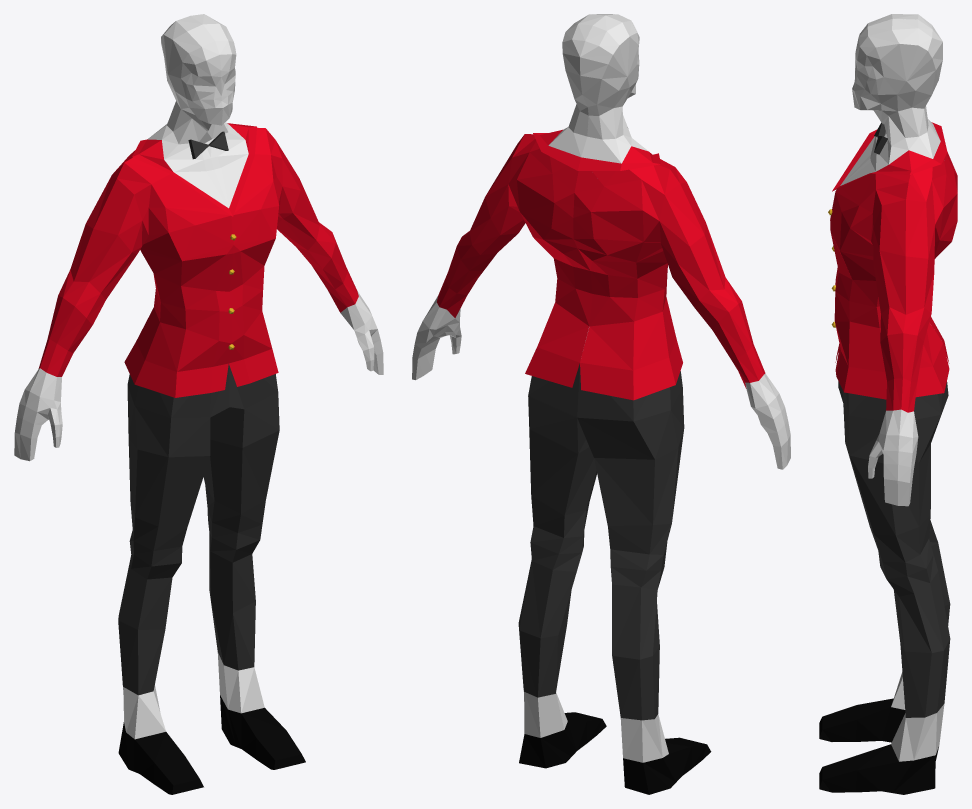
Rendered from barmen.fbx.
The picture shows the model from 3 angles, left to right: view 1: azimuth 30°, elevation 25°; view 2: azimuth 150°, elevation 25°; view 3: azimuth 270°, elevation 25°; orthographic projection. The views are drawn at different scales.
Parts seen in each view (by area): view 1: human; view 2: human; view 3: human, Куб.
Part boxes in pixels (left/top/right/bottom): human: left=14, top=14, right=383, bottom=794; human: left=412, top=14, right=790, bottom=794; human: left=819, top=14, right=957, bottom=794; Куб: left=874, top=122, right=887, bottom=154.
Size of the model in its own units: 4227 by 8189 by 1385.
